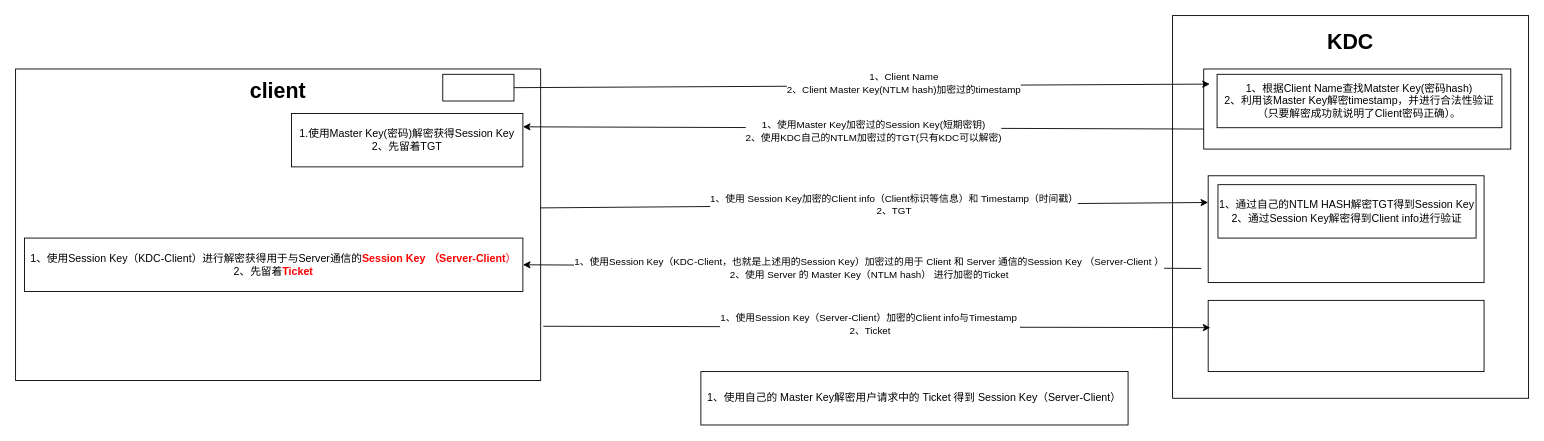
The diagram is 1544 pixels wide and 441 high, and some of its shapes have lost their labels. The box of each missing label's shape, as (x1, y1, x2, y2) in pixels:
AS: (1203, 68, 1511, 149)
Server: (1207, 299, 1484, 372)
TGS: (1207, 175, 1484, 283)
输入账户密码: (442, 73, 514, 101)
